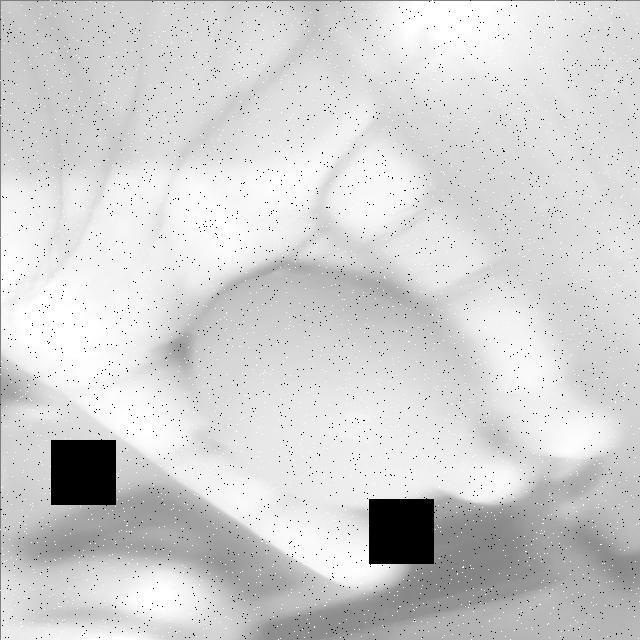egg: (170, 261, 486, 516)
